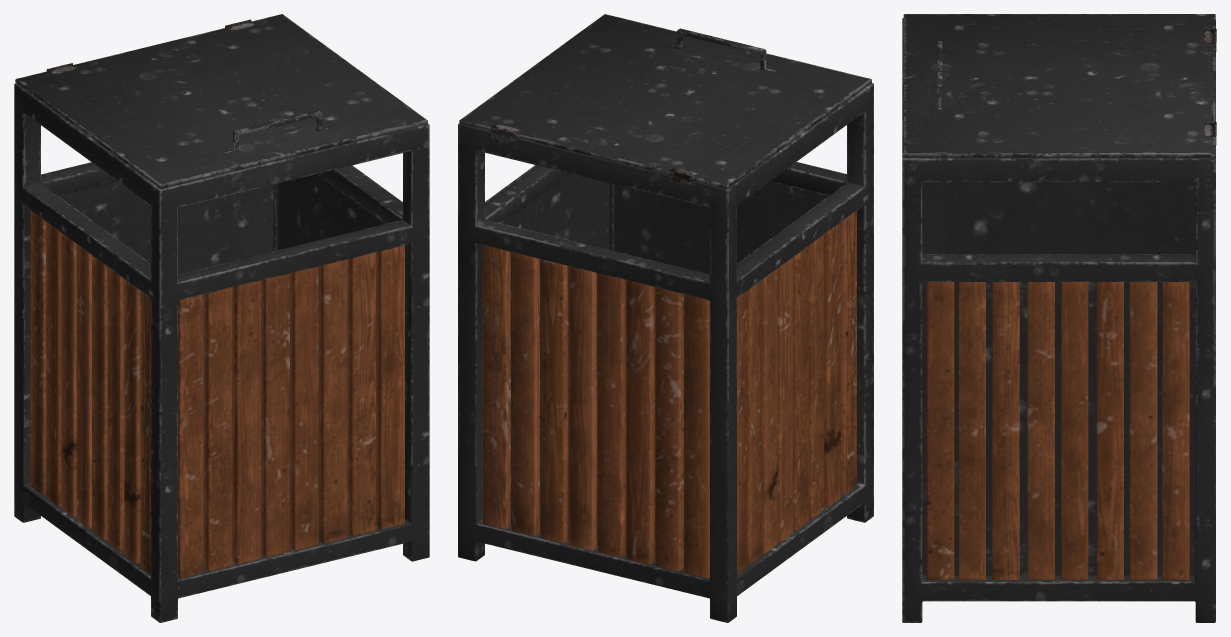
The model's file is Counter_0.glb.
3 renders of one model, left to right at view 1: azimuth 30°, elevation 25°; view 2: azimuth 150°, elevation 25°; view 3: azimuth 270°, elevation 25°, orthographic. The views are drawn at different scales.
Parts seen in each view (by area): view 1: Bin; view 2: Bin; view 3: Bin.
Boxes of the visible parts, x1,y1,x2,y2 form: Bin: (14,14,429,622); Bin: (458,14,873,622); Bin: (902,14,1216,622).
Size of the model in its own units: 1.23 by 1.98 by 1.15.
4 materials, 4 textured.
